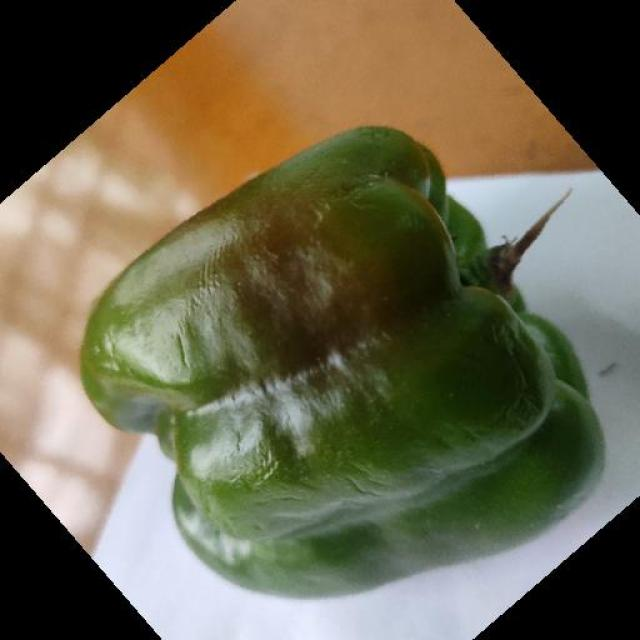Stale_Capsicum: (113, 156, 640, 578)
